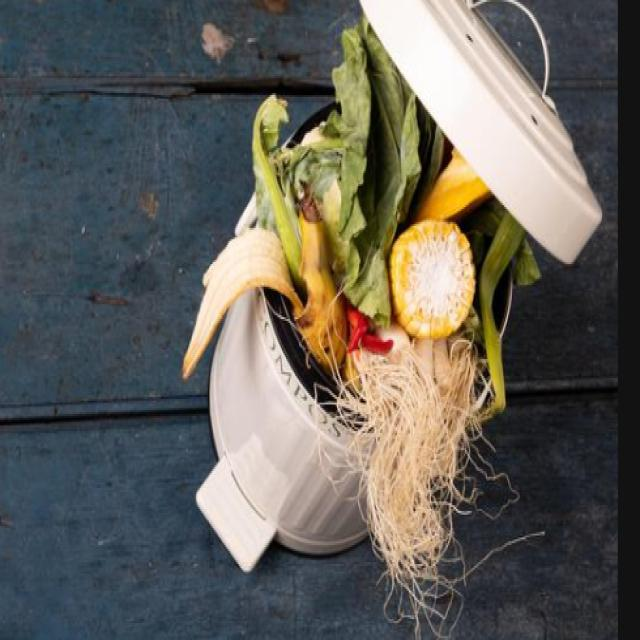paper: (287, 23, 415, 346), (173, 226, 353, 400), (370, 359, 491, 591), (394, 212, 472, 338)
